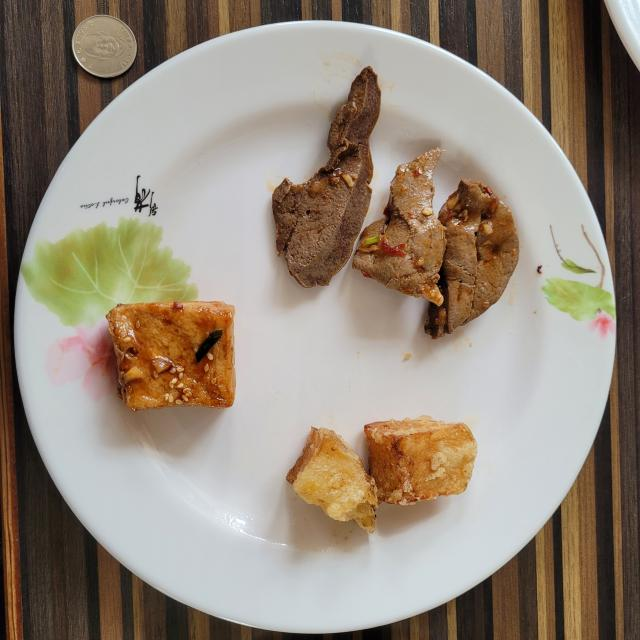coin: (72, 15, 136, 78)
creamy tofu: (106, 301, 235, 411)
fried potato: (286, 415, 476, 532)
pig liver: (352, 149, 519, 339), (272, 68, 380, 288)
